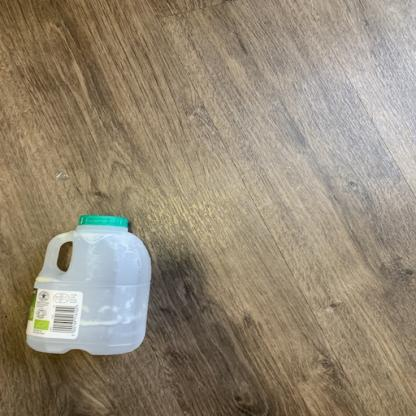trash: (27, 212, 149, 362)
